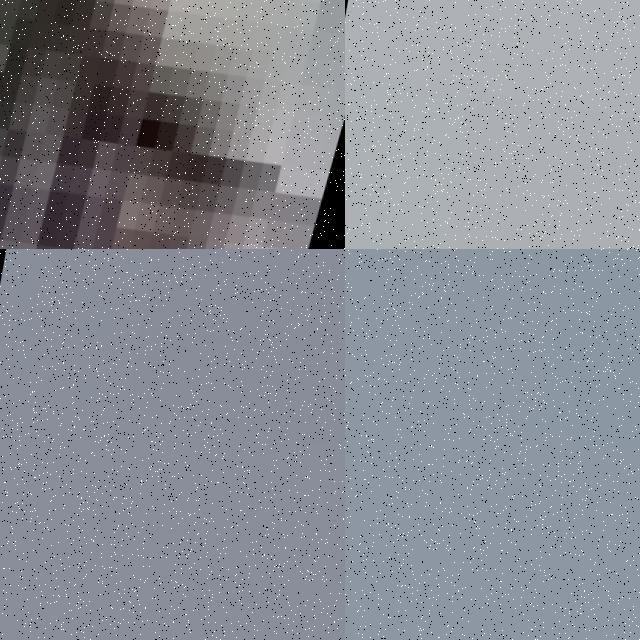drone: (0, 0, 345, 249)
